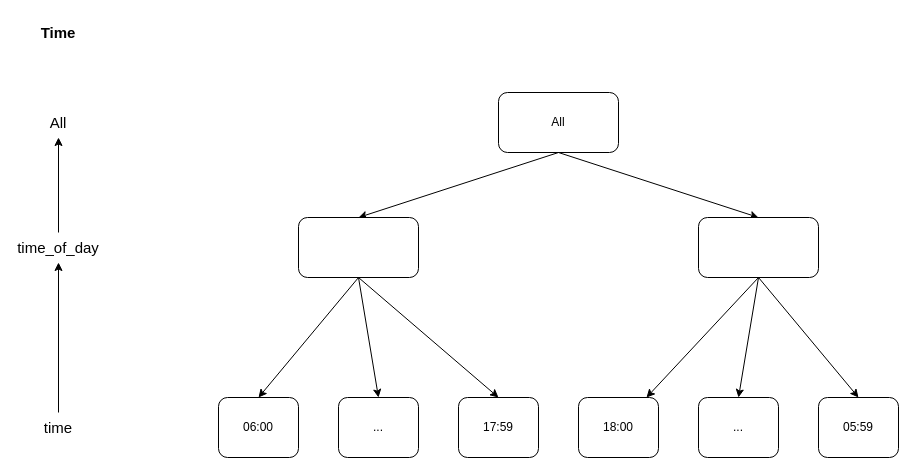
This 916x475 diagram has some shape labels left out. Each missing label, with the box of its shape:
Day: (298, 216, 418, 278)
Night: (698, 216, 818, 278)
